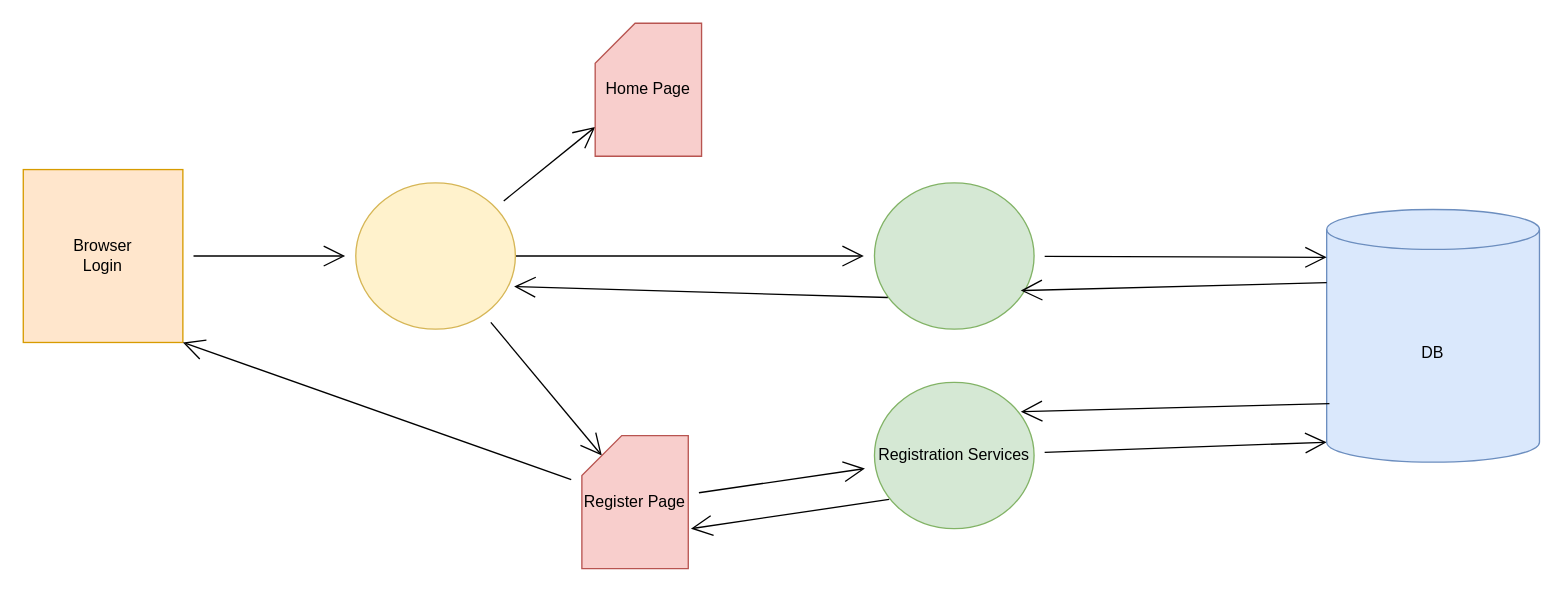
This 1563x592 diagram has some shape labels left out. The shapes that lost their labels are listed below. From the top down, each one's box as (x1, y1, x2, y2) in pixels, then its label:
(354, 182, 515, 329): Login Services
(873, 182, 1034, 329): Login Logic Controller
